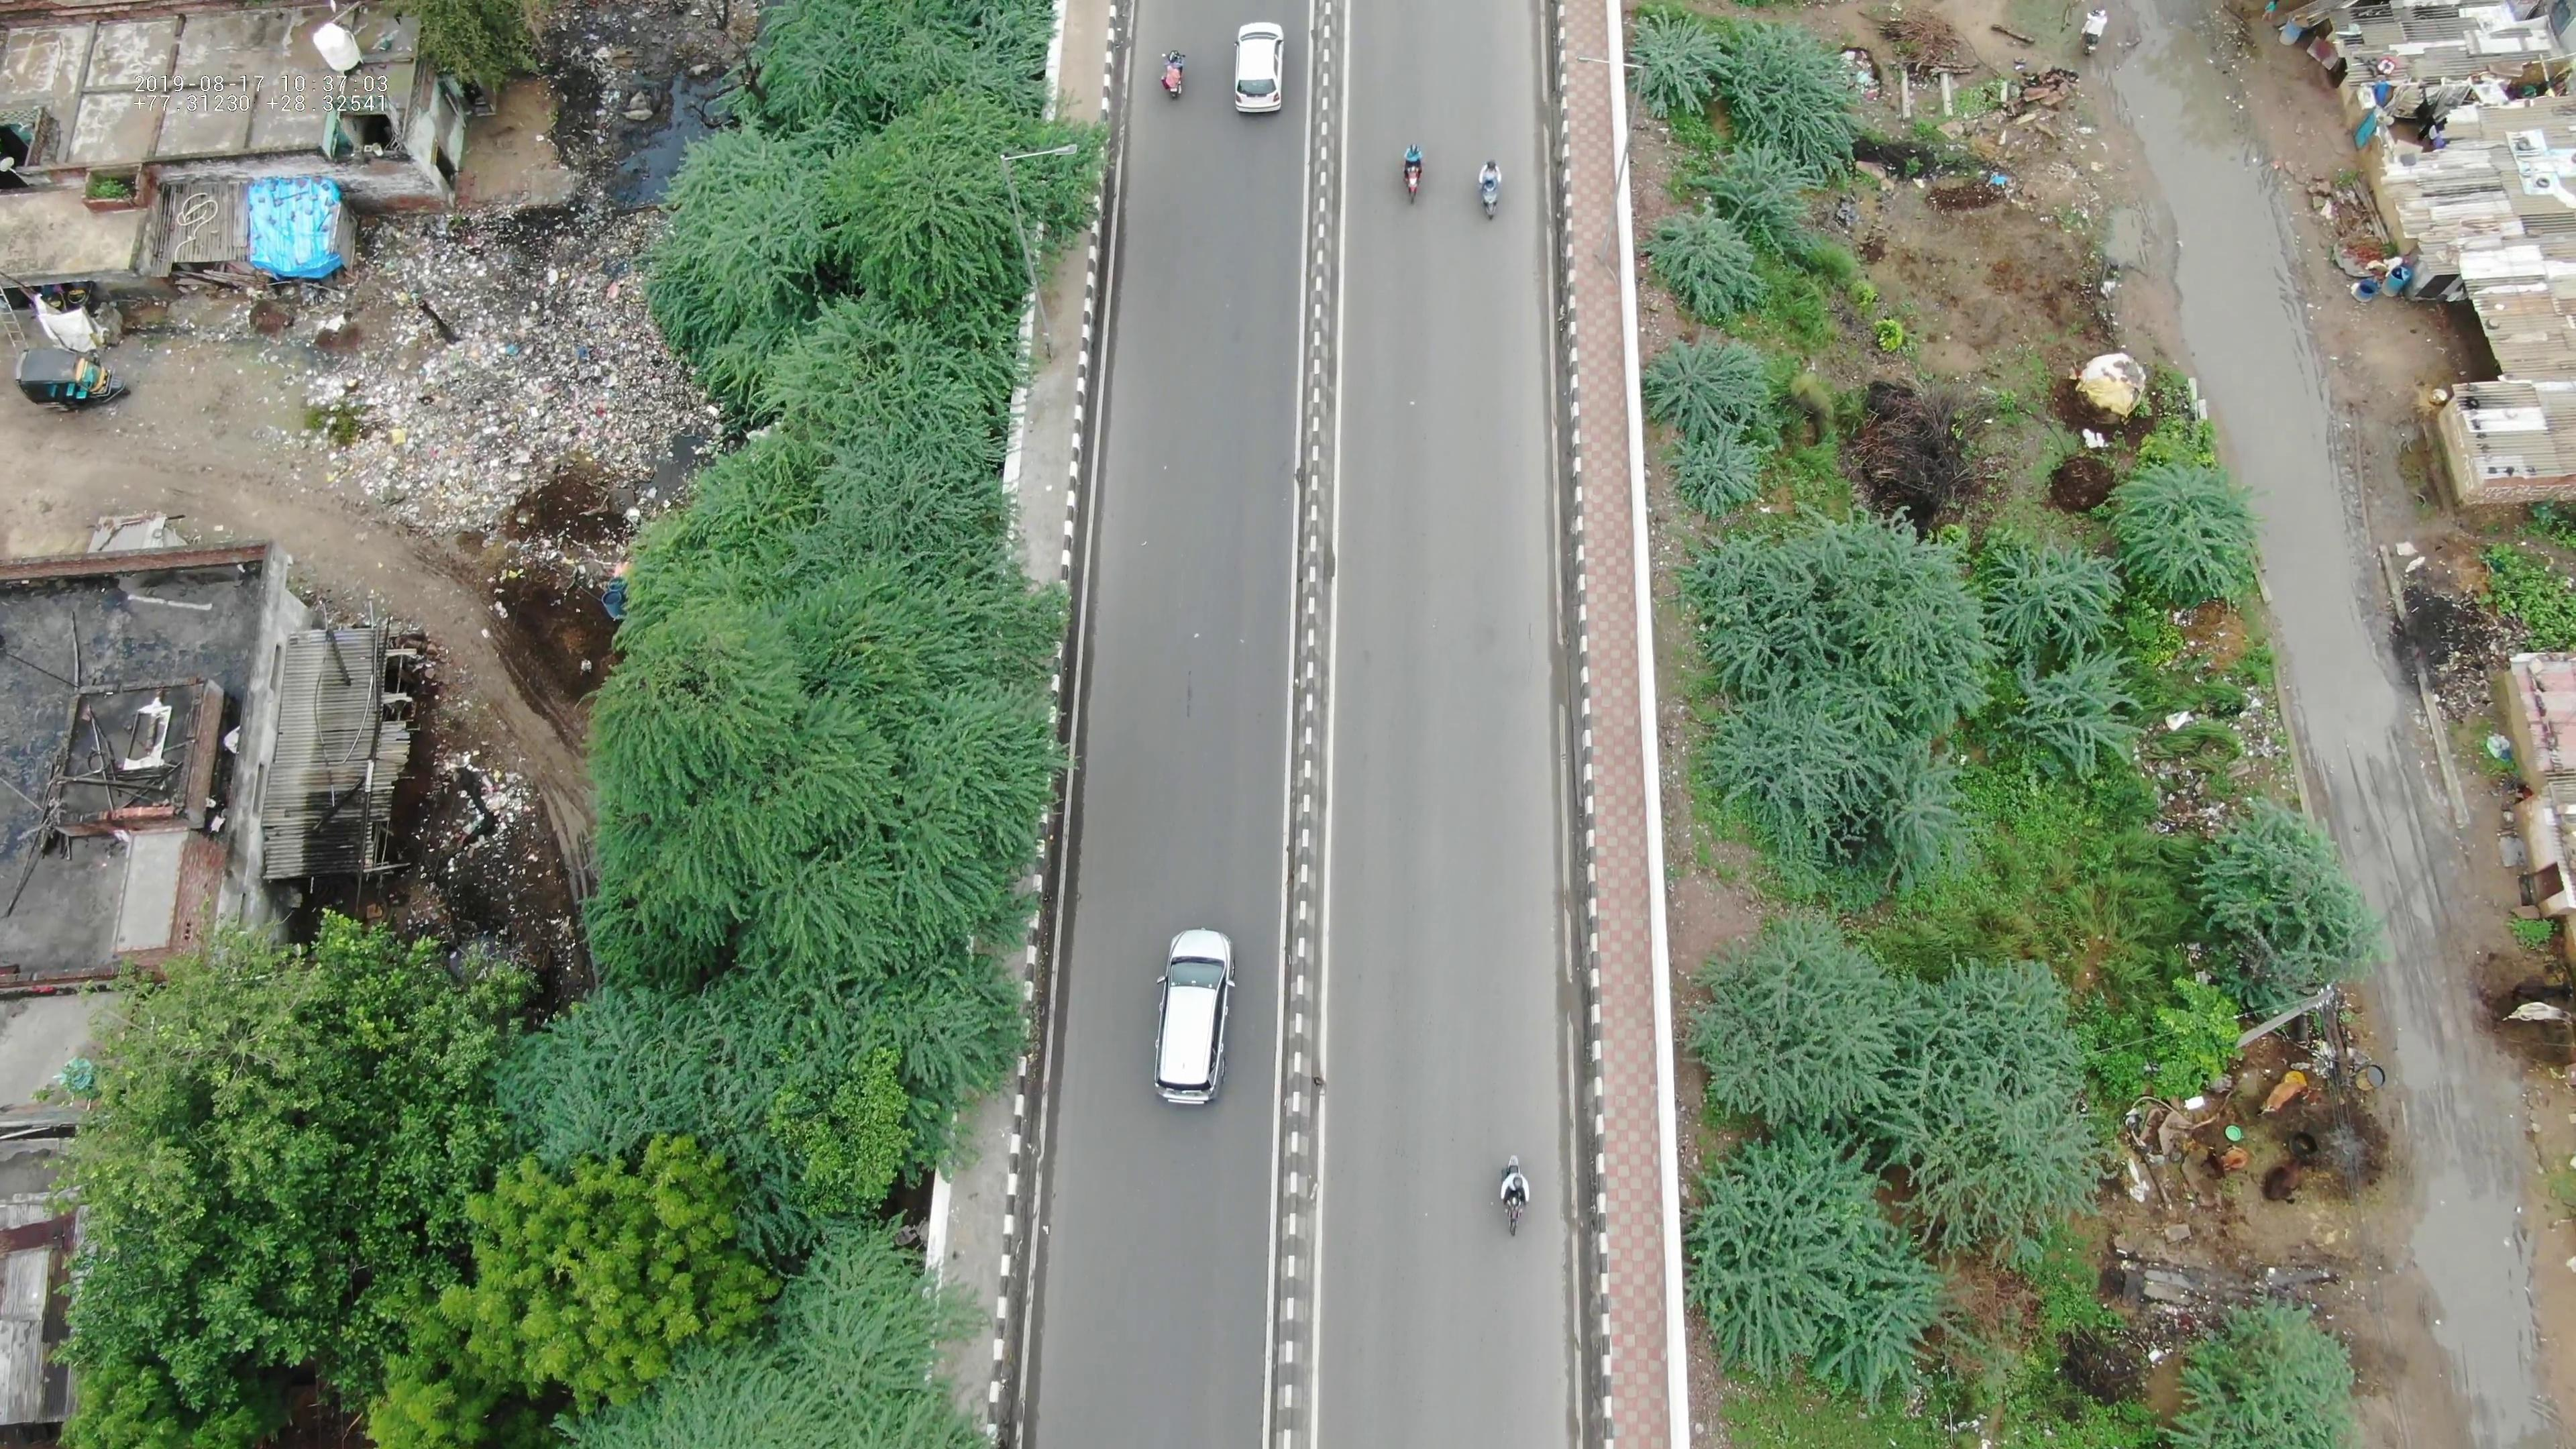Road_side_garbage: (361, 209, 690, 525)
